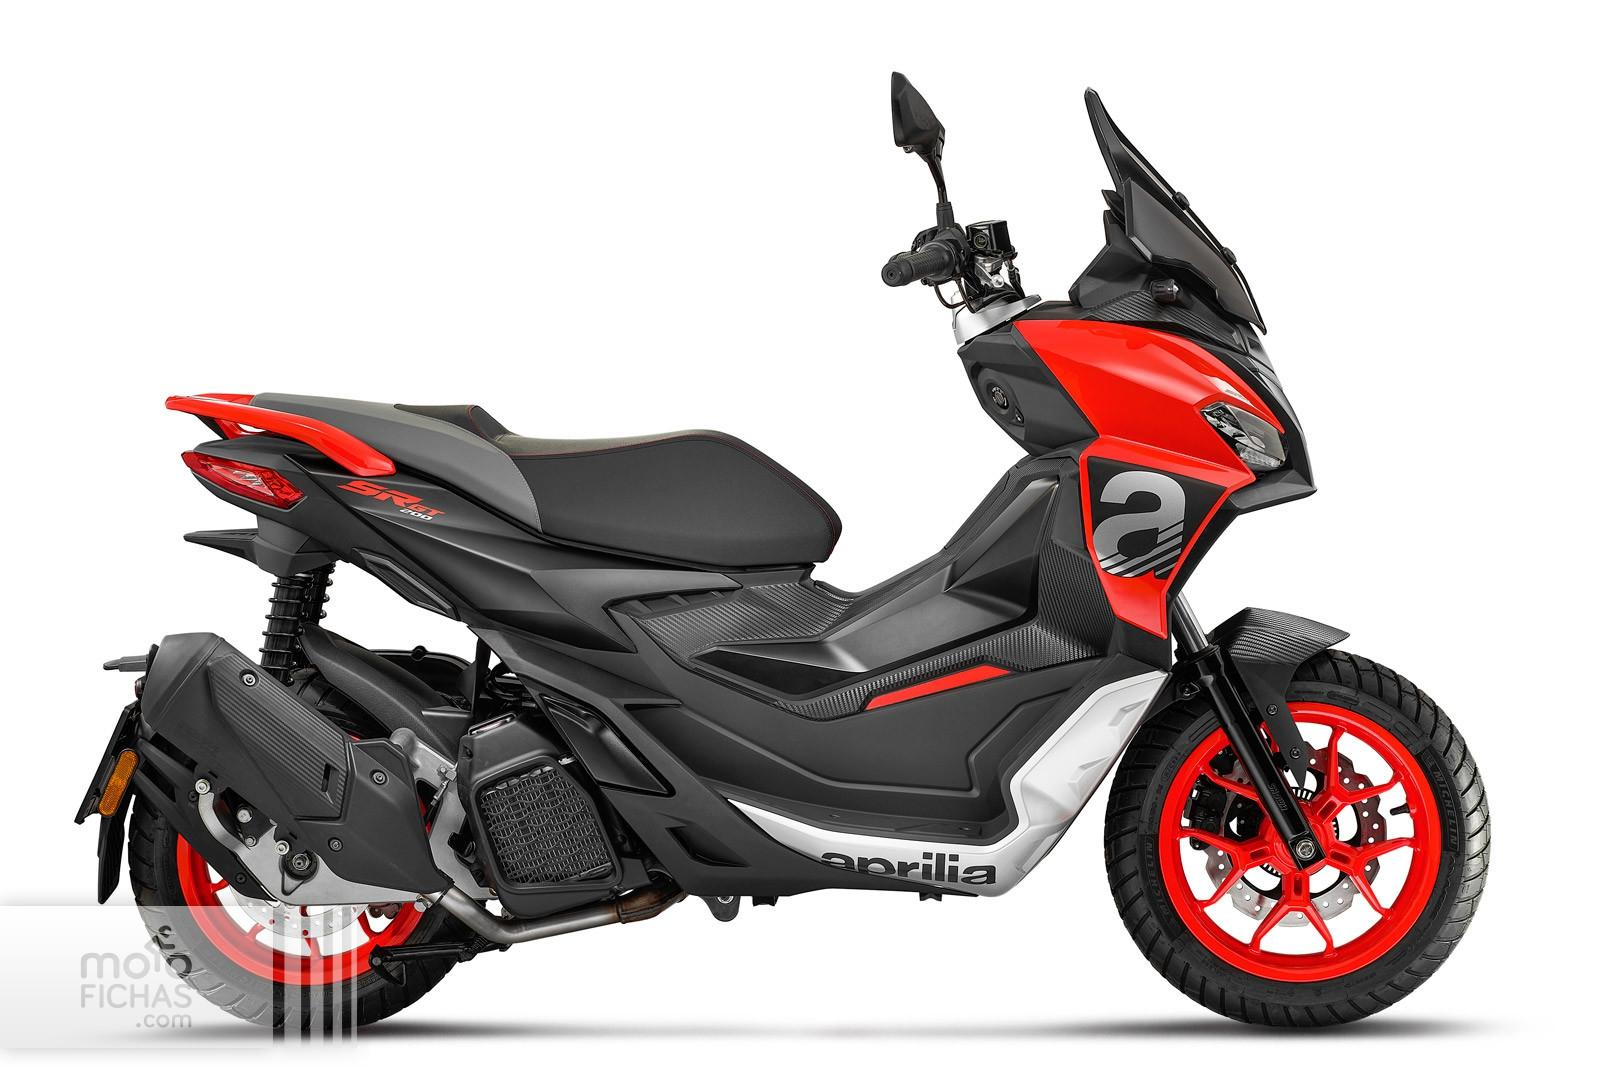engine-chasis: (457, 628, 1168, 921), (258, 560, 337, 687), (369, 931, 513, 990)
exhaust: (140, 632, 454, 893), (420, 878, 689, 944)
frontside: (1014, 87, 1350, 871), (630, 458, 1113, 722), (1085, 88, 1124, 200)
handlebar: (881, 71, 1043, 345), (1018, 189, 1146, 320)
motorbike: (76, 74, 1487, 1027)
rearside: (164, 392, 744, 899), (74, 700, 429, 904)
seat: (251, 392, 843, 566)
tank: (957, 323, 1099, 469)
watermark: (0, 905, 356, 1061)
wheel: (1104, 649, 1488, 1024), (127, 798, 465, 1032)
